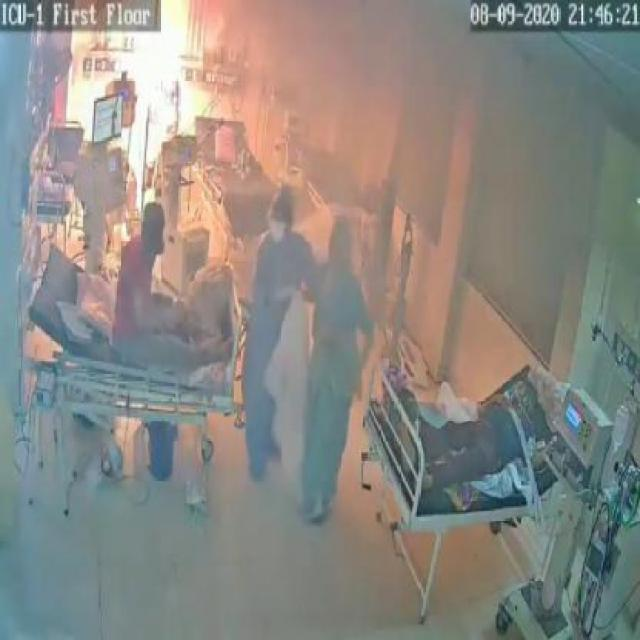fire: (125, 18, 190, 180)
smoke: (363, 5, 640, 256)
